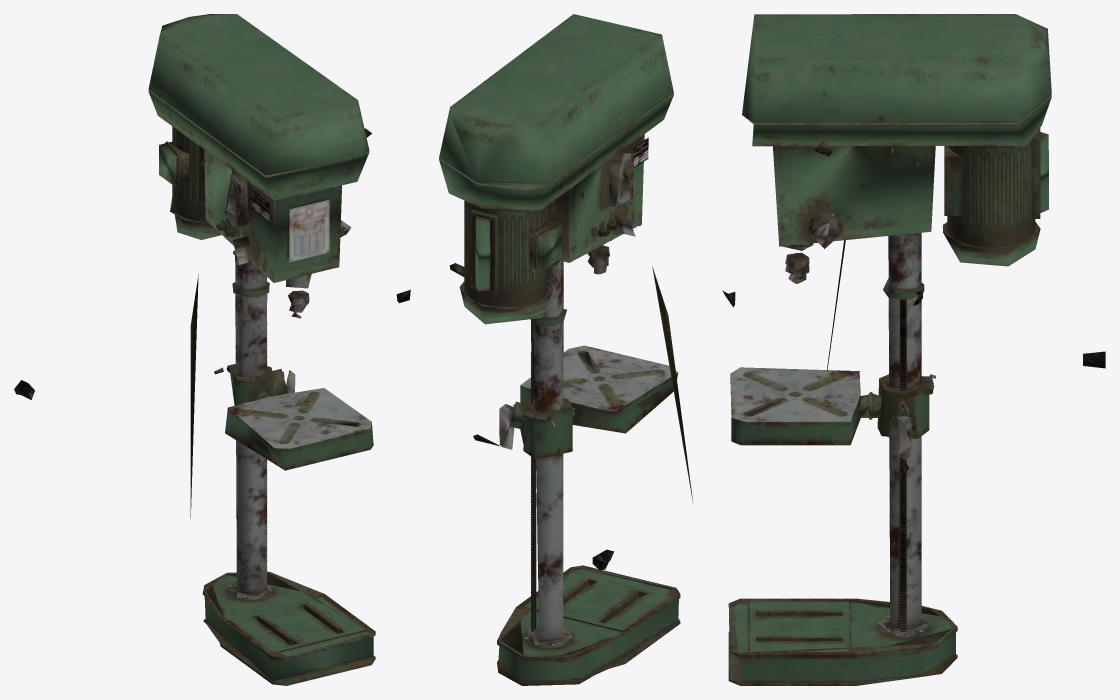
Rendered from drill.glb.
The picture shows the model from 3 angles, left to right: view 1: azimuth 30°, elevation 25°; view 2: azimuth 150°, elevation 25°; view 3: azimuth 270°, elevation 25°; orthographic projection. The views are drawn at different scales.
Visible parts, largest first — view 1: old_drill_press_cable; view 2: old_drill_press_cable; view 3: old_drill_press_cable.
Part boxes in pixels (bbox=[...]): old_drill_press_cable: bbox=[14, 14, 410, 685]; old_drill_press_cable: bbox=[439, 14, 693, 685]; old_drill_press_cable: bbox=[722, 14, 1105, 685].
Size of the model in its own units: 0.4572 by 1.05 by 0.5871.
Materials: 1 (1 with a texture image).
